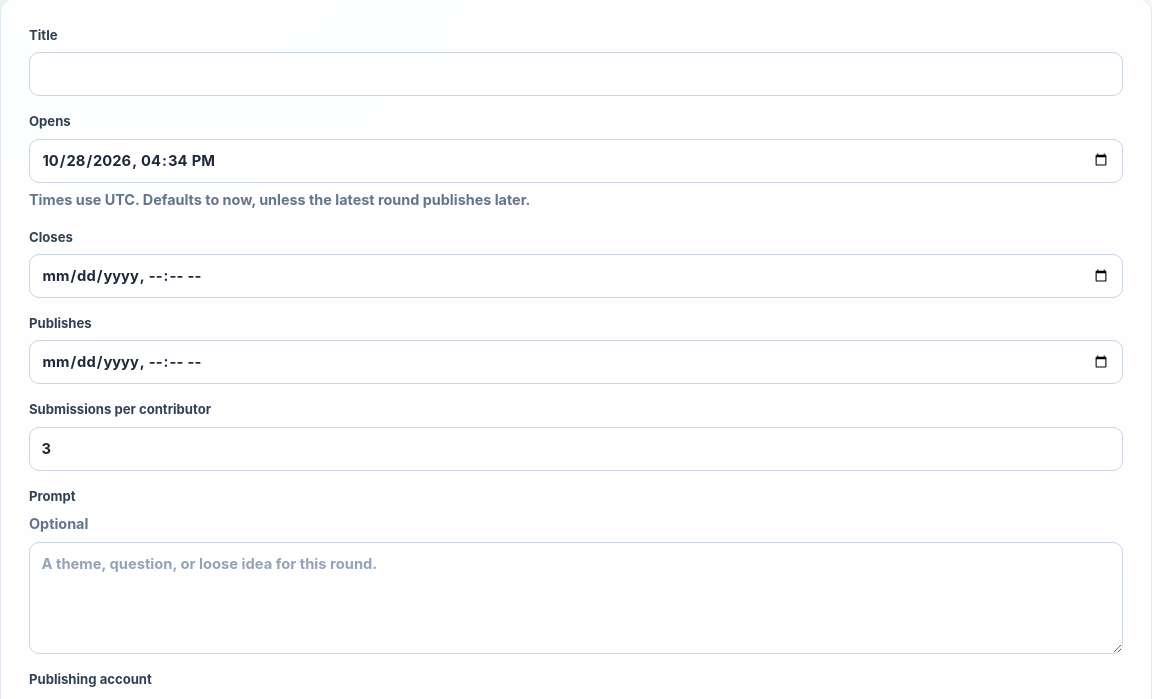
RoundScheduleForm › refuses a window that closes before it opens
Type "September picks" into the field labelled "Title" at [576, 74], box [29, 52, 1123, 96]
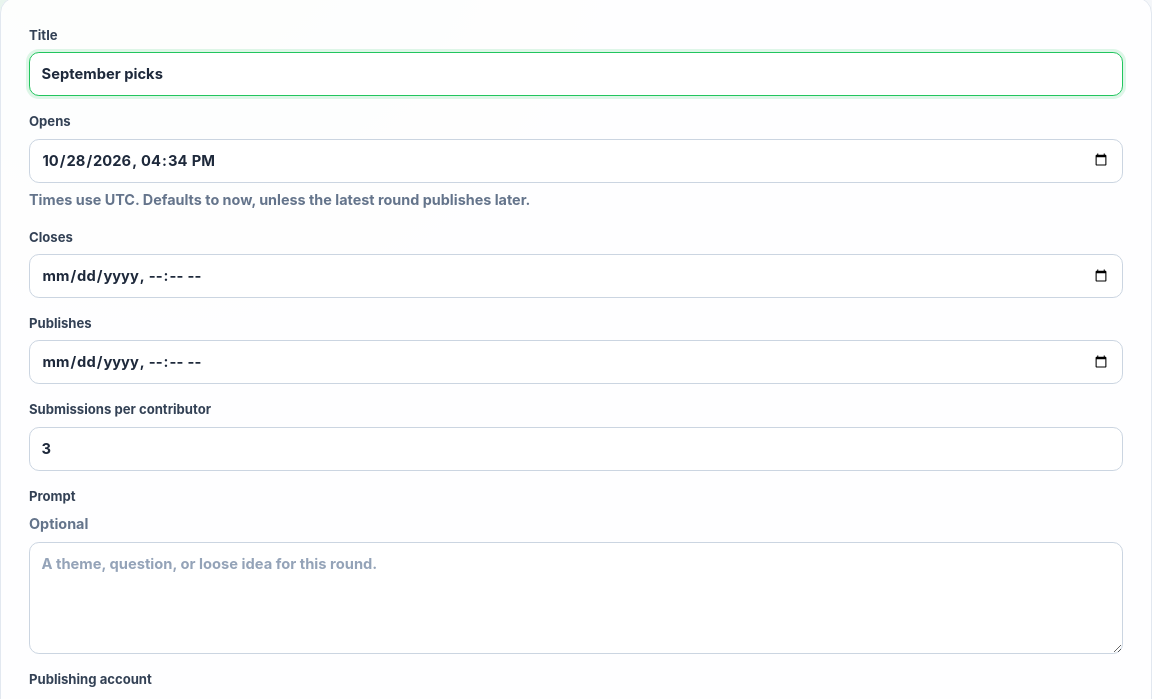
Replace the text in the field labelled "Opens" with "2026-09-30T00:00" at [576, 161], box [29, 139, 1123, 183]
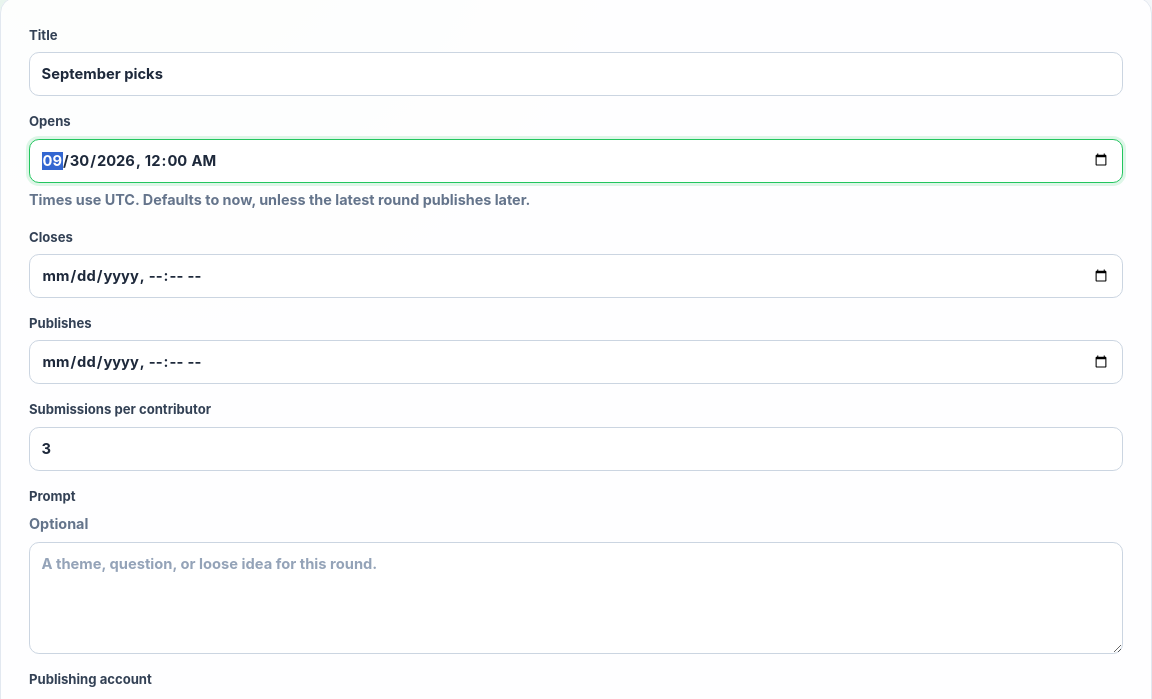
Type "2026-09-01T00:00" into the field labelled "Closes" at [576, 276], box [29, 254, 1123, 298]
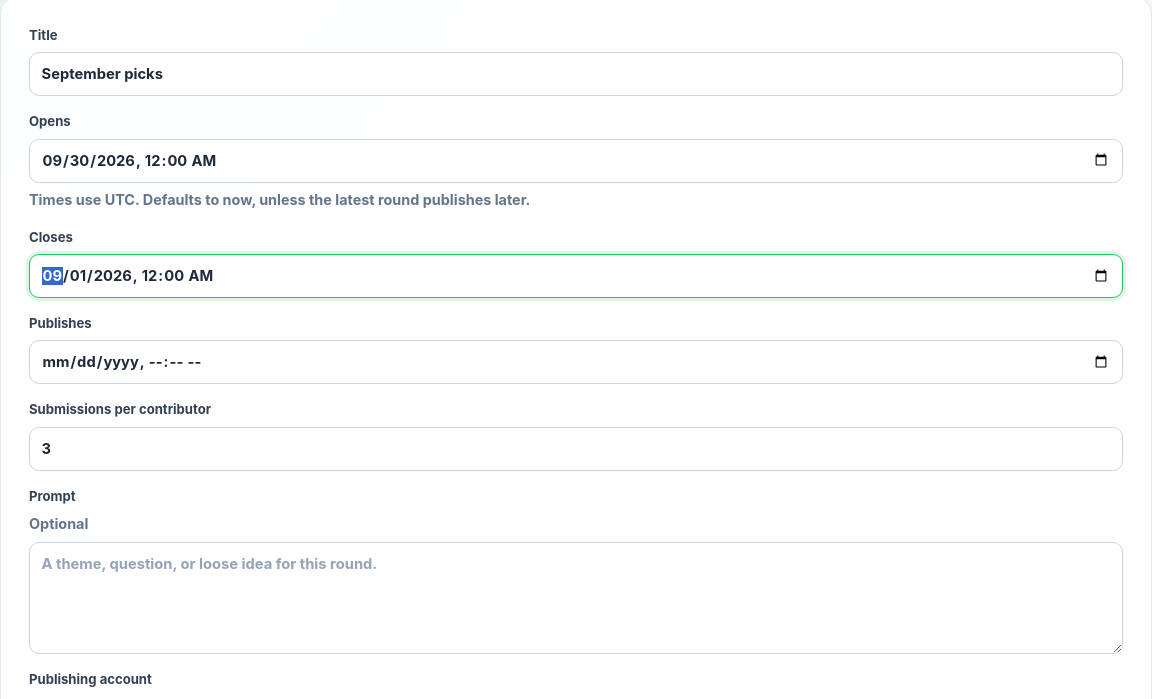
Type "2026-10-01T00:00" into the field labelled "Publishes" at [576, 362], box [29, 340, 1123, 384]
(page scrolled)
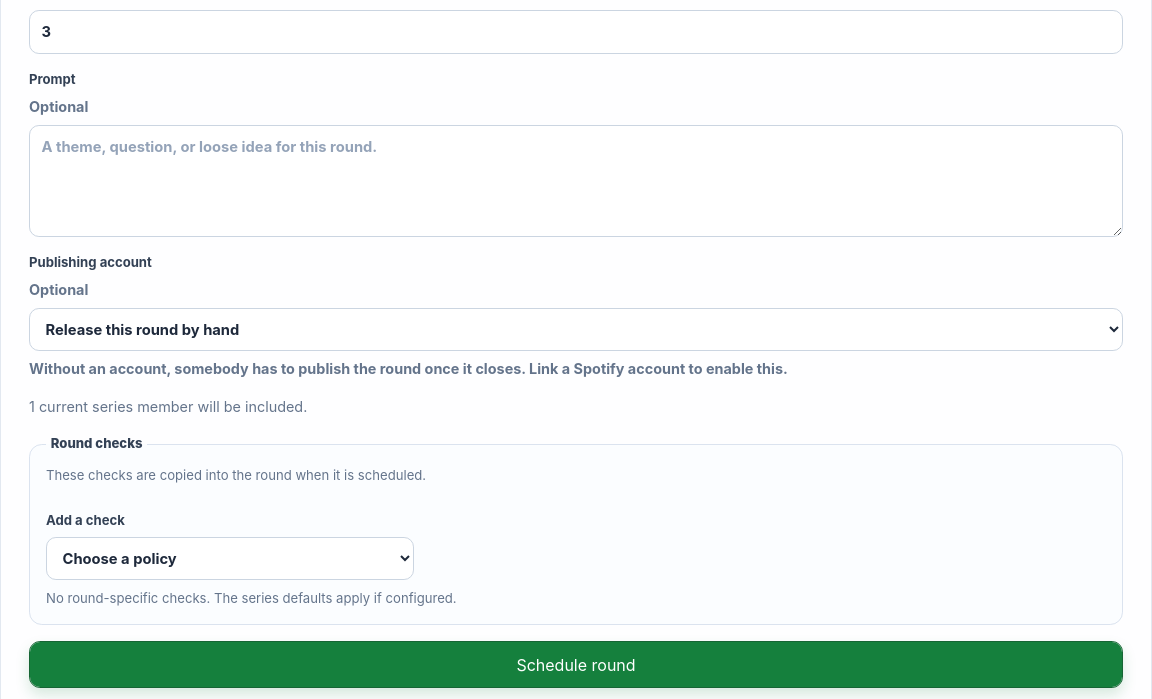
Click the button "Schedule round" at [576, 665], box [29, 641, 1123, 688]
(page scrolled)
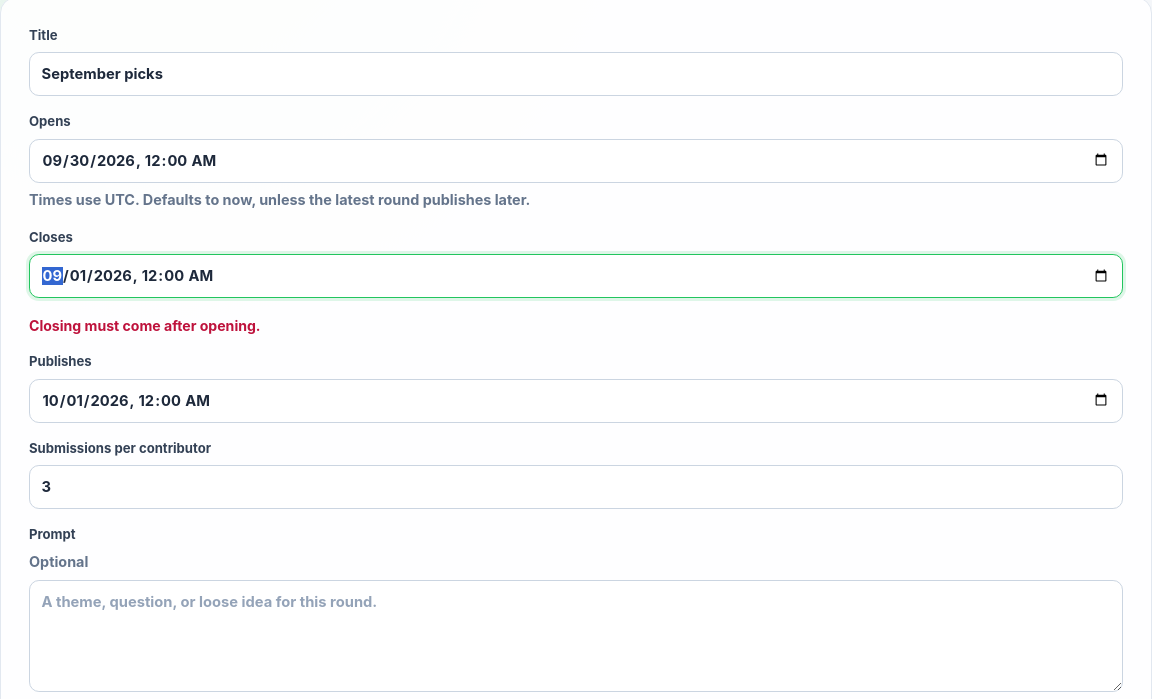
Expected: the text "Closing must come after opening." is shown, [29, 317, 261, 334]
